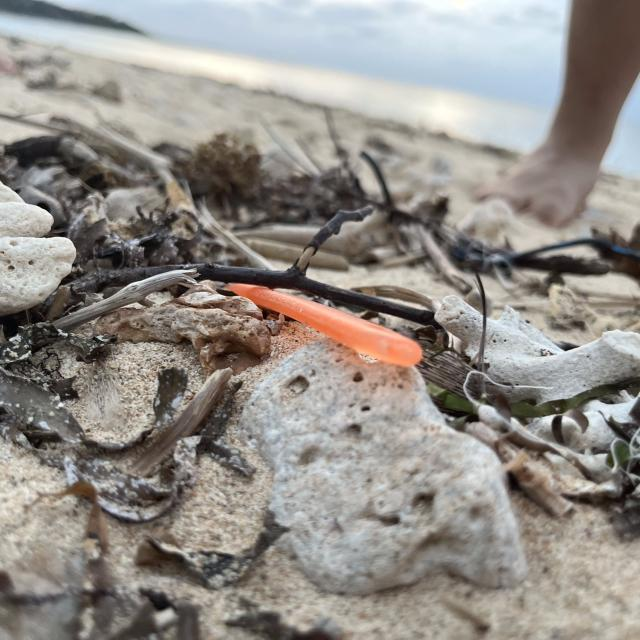coral: (439, 292, 640, 415)
feet: (469, 72, 619, 235)
rock: (246, 328, 536, 593), (0, 188, 71, 305)
trash: (77, 243, 450, 316), (221, 271, 431, 377)
